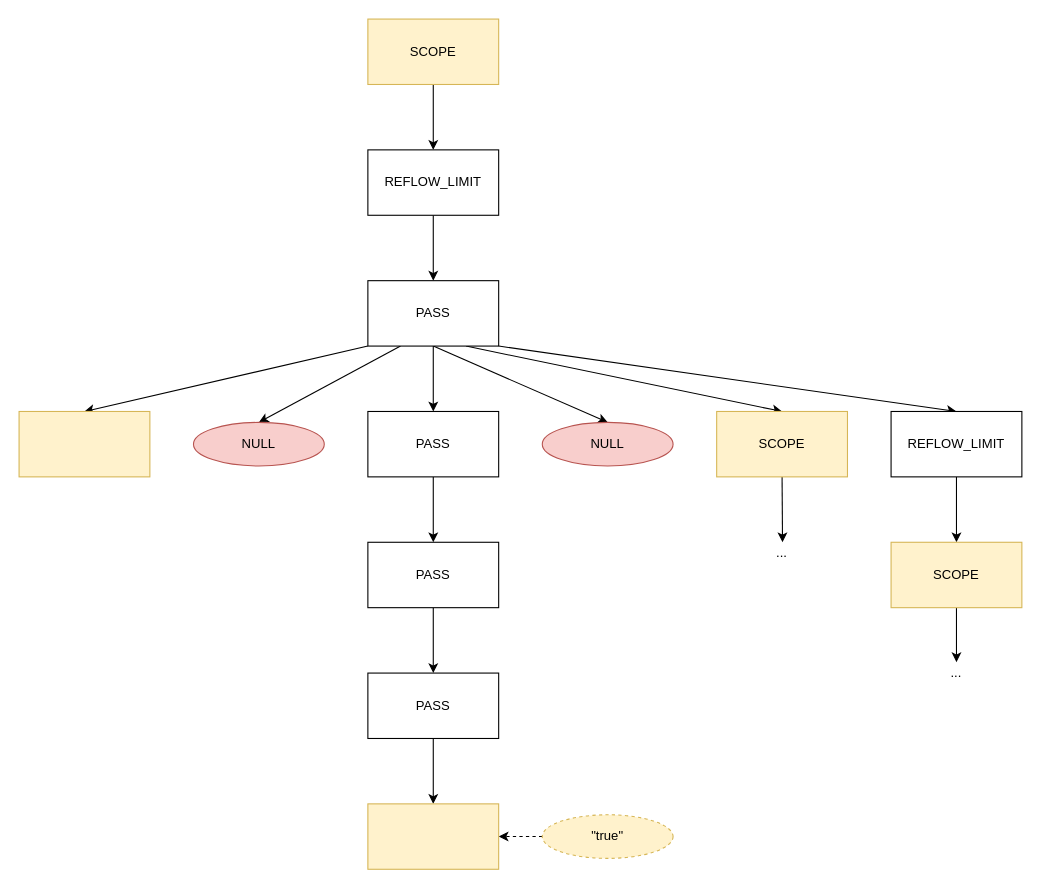
The diagram is 1041 pixels wide and 888 high, and some of its shapes have lost their labels. The shapes that lost their labels are listed below. From the top down, each one's centre as x and y in pixels, then its label:
At pixel 84 443: "IF".
At pixel 433 836: "BOOLEAN".
